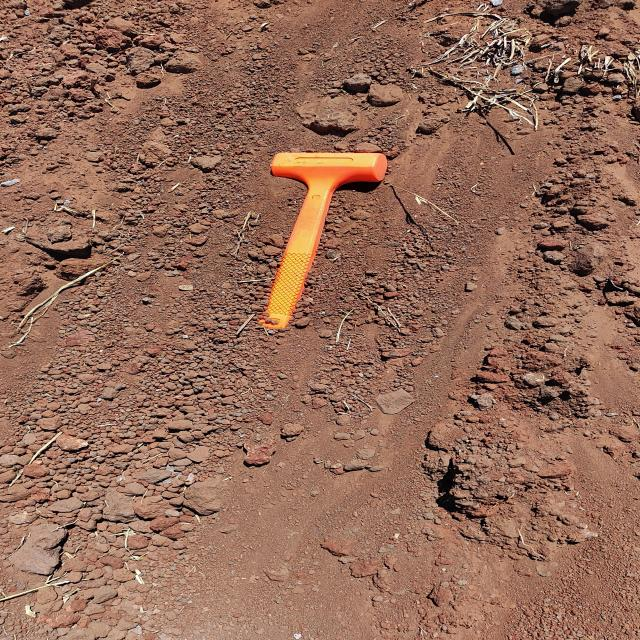Orange_hammer: (255, 150, 388, 332)
